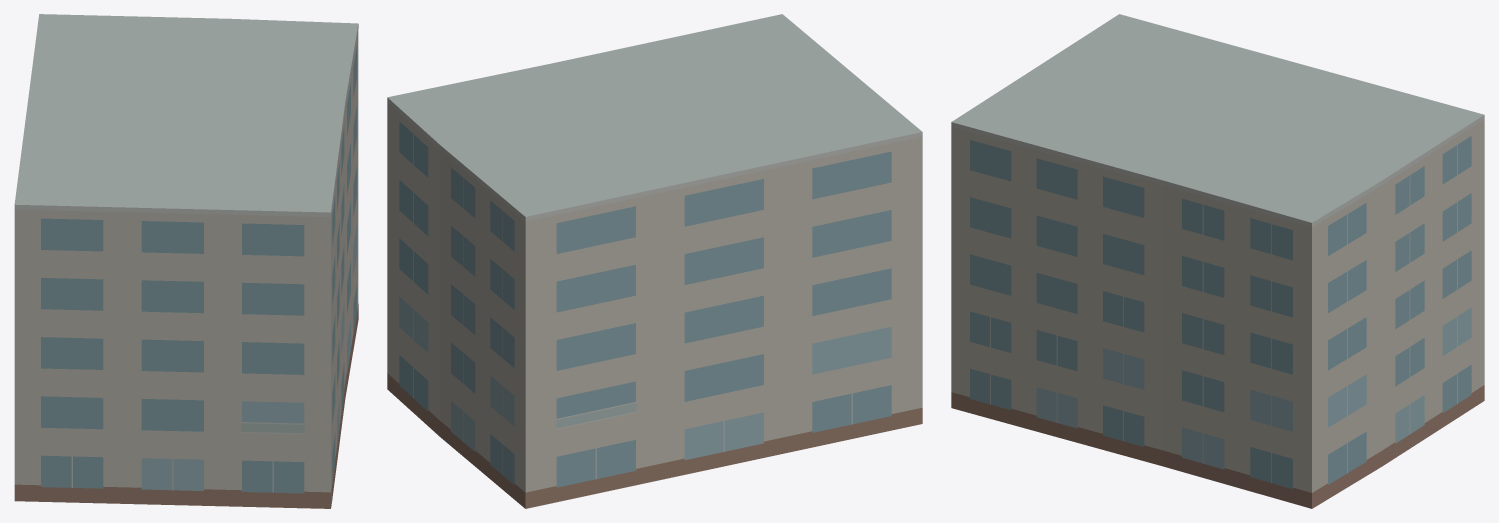
File: survey-upis-32828949.glb
The picture shows the model from 3 angles, left to right: view 1: azimuth 30°, elevation 25°; view 2: azimuth 150°, elevation 25°; view 3: azimuth 270°, elevation 25°; orthographic projection. The views are drawn at different scales.
Visible parts, largest first — view 1: survey-upis-32828949.tmp; view 2: survey-upis-32828949.tmp; view 3: survey-upis-32828949.tmp.
Part boxes in pixels (x1,y1,x2,y2): survey-upis-32828949.tmp: [14, 14, 358, 508]; survey-upis-32828949.tmp: [387, 14, 922, 508]; survey-upis-32828949.tmp: [951, 14, 1484, 508].
Bounding box in the file's own units: 23.82 × 15.2 × 25.7.
